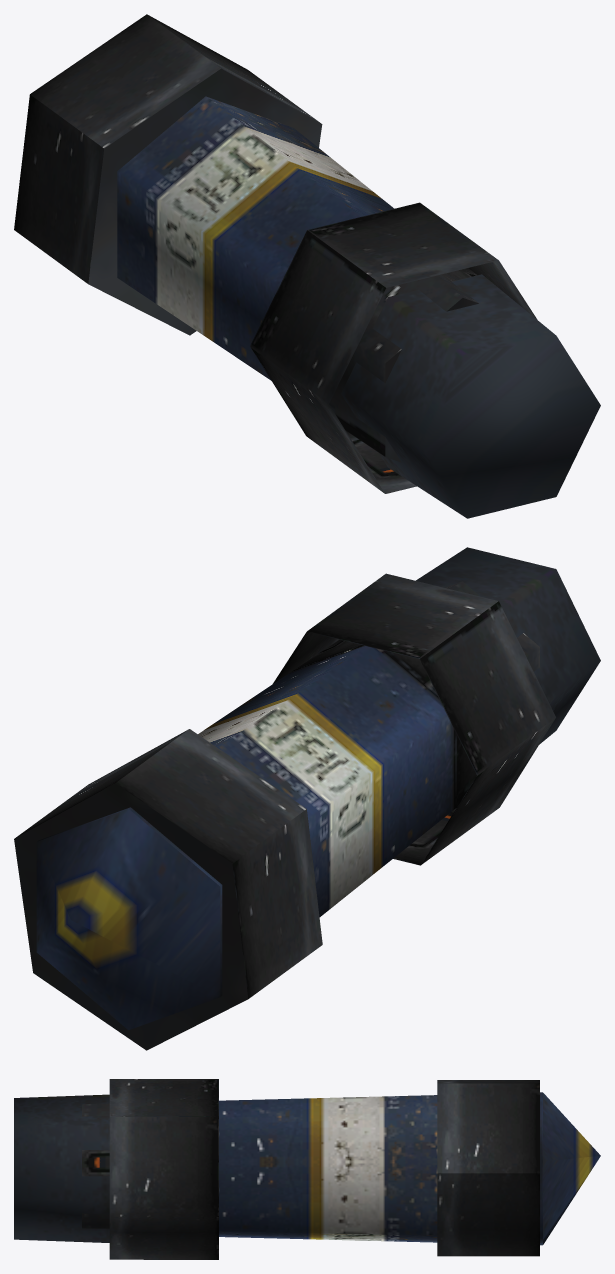
The model's file is t6_wpn_grenade_emp_world_LOD2.obj.
3 views of the same model, one above another, from view 1: azimuth 30°, elevation 25°; view 2: azimuth 150°, elevation 25°; view 3: azimuth 270°, elevation 25° (orthographic). The views are drawn at different scales.
Parts seen in each view (by area): view 1: mtl_t6_wpn_grenade_emp, mtl_t6_wpn_grenade_emp_glass_world; view 2: mtl_t6_wpn_grenade_emp, mtl_t6_wpn_grenade_emp_glass_world; view 3: mtl_t6_wpn_grenade_emp, mtl_t6_wpn_grenade_emp_glass_world.
Boxes of the visible parts, x1=… form: mtl_t6_wpn_grenade_emp: x1=14, y1=14, x2=537, y2=493; mtl_t6_wpn_grenade_emp_glass_world: x1=341, y1=274, x2=600, y2=518; mtl_t6_wpn_grenade_emp: x1=14, y1=573, x2=555, y2=1050; mtl_t6_wpn_grenade_emp_glass_world: x1=416, y1=547, x2=600, y2=744; mtl_t6_wpn_grenade_emp: x1=82, y1=1079, x2=600, y2=1259; mtl_t6_wpn_grenade_emp_glass_world: x1=14, y1=1094, x2=109, y2=1242.
Bounding box in the file's own units: 5.71 × 6.05 × 17.94.
